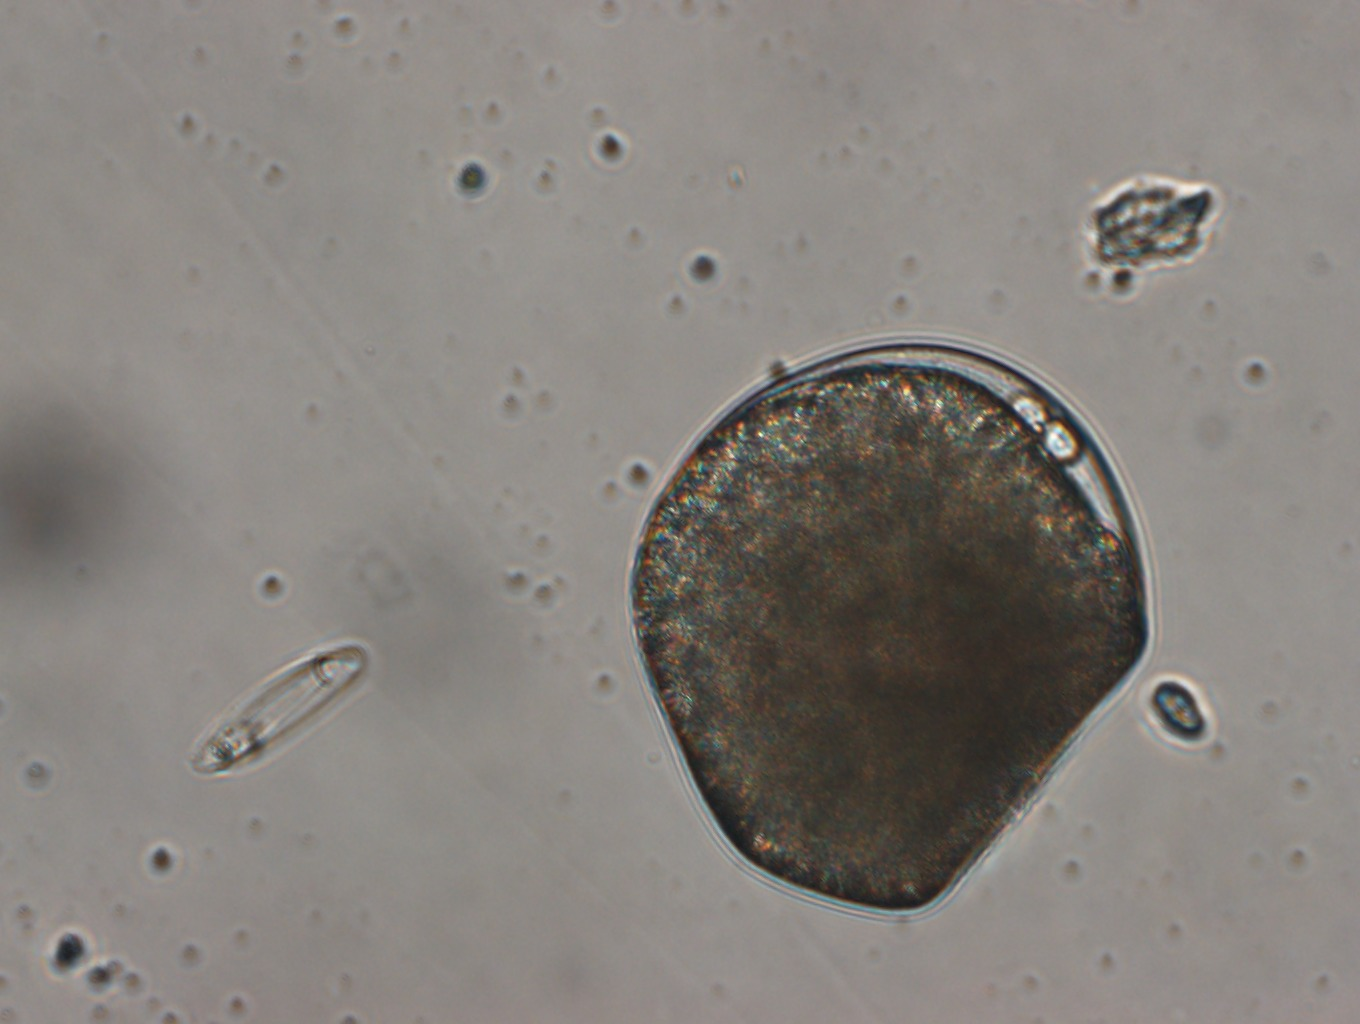coscinodiscus: (622, 336, 1153, 919)
